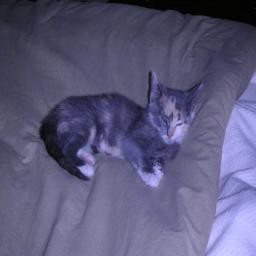catnose: (166, 131, 173, 140)
